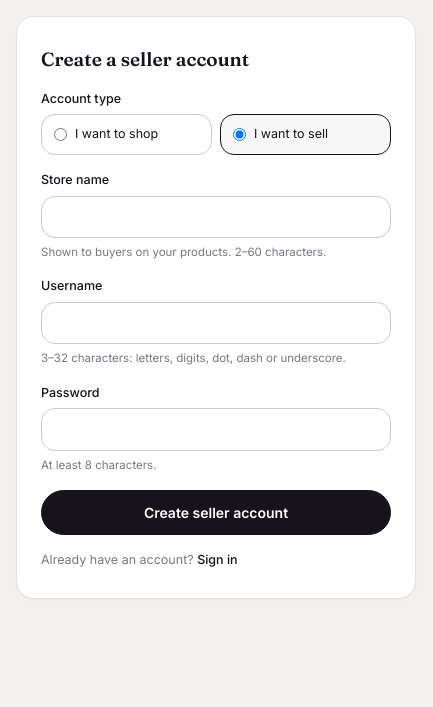
Test: registration shows every problem at once, not only the first
Step 1. Type "ab" into the field labelled "Username" → (216, 323), box [41,302,391,344]
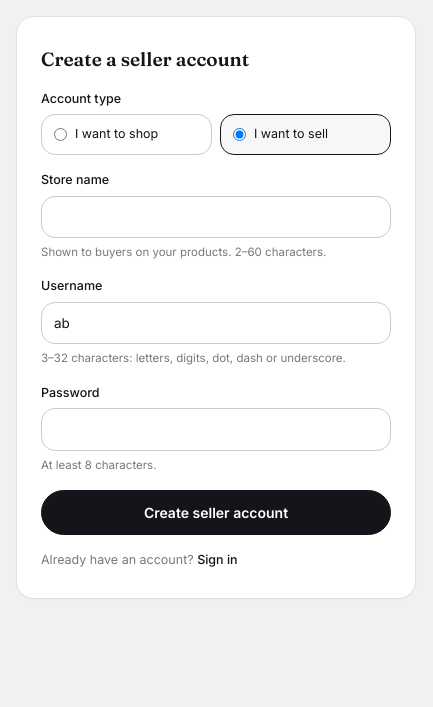
Step 2. Type "short" into the password field labelled "Password" → (216, 429), box [41,408,391,451]
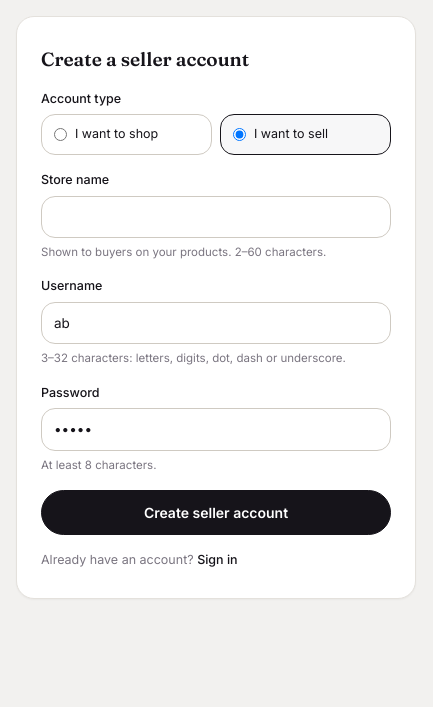
Step 3. Click the button "Create seller account" → (216, 512), box [41,490,391,535]
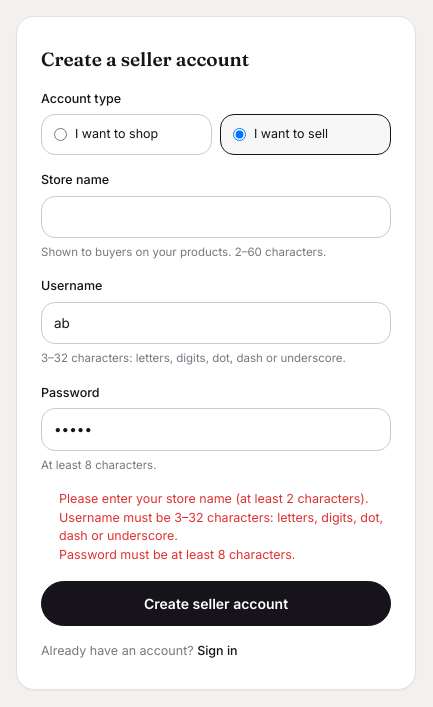
Result: the message shows "Please enter your store name" at [59,491,368,506]
Result: the message shows "Username must be 3–32 characters" at [59,510,383,543]
Result: the message shows "Password must be at least 8 characters" at [59,547,296,562]
